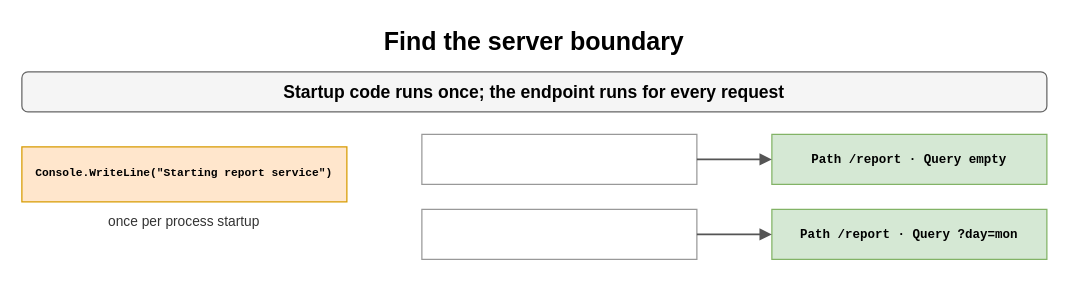
This 1069x281 diagram has some shape labels left out. Here are the shapes that lost their labels. From the top down, the centre of each, then its label:
At pixel 559 158: "GET /report".
At pixel 559 233: "GET /report?day=mon".
